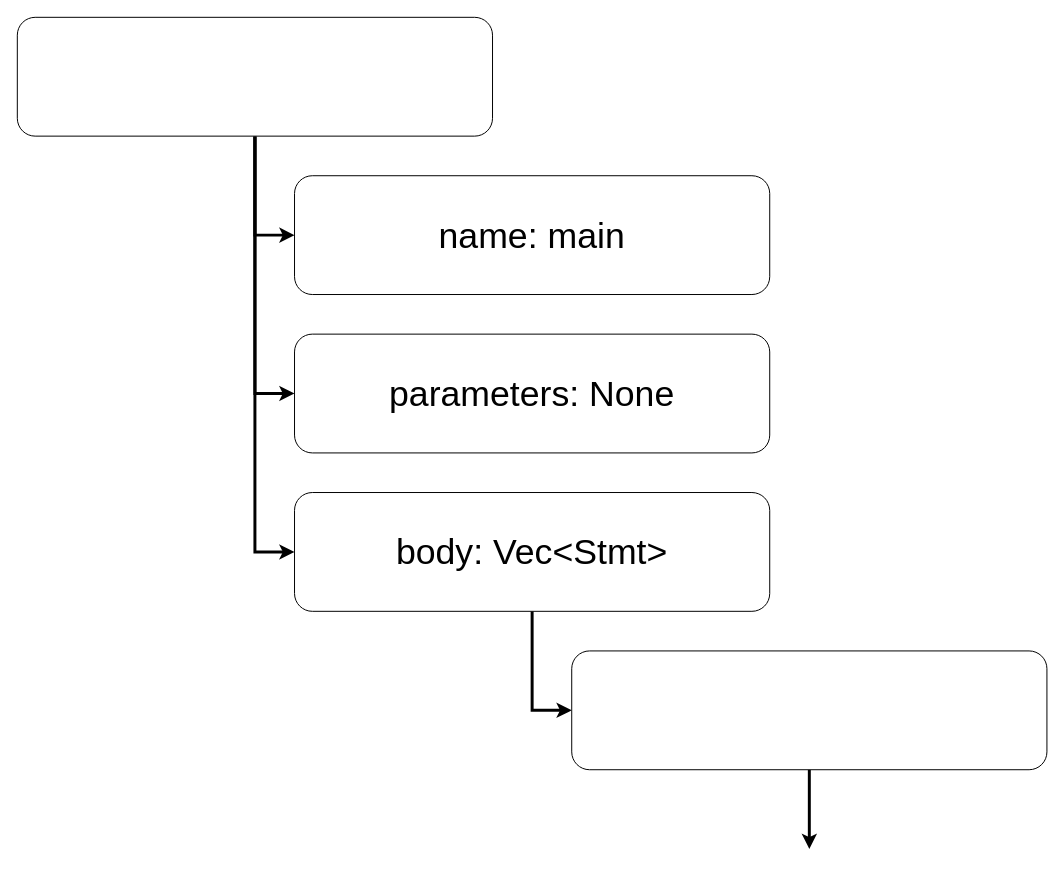
Some shapes in this 1064 by 875 pixel diagram are drawn without their labels. Each missing label, with the box of its shape:
FuncDef: (16, 16, 493, 136)
LetStmt: (571, 650, 1047, 770)
